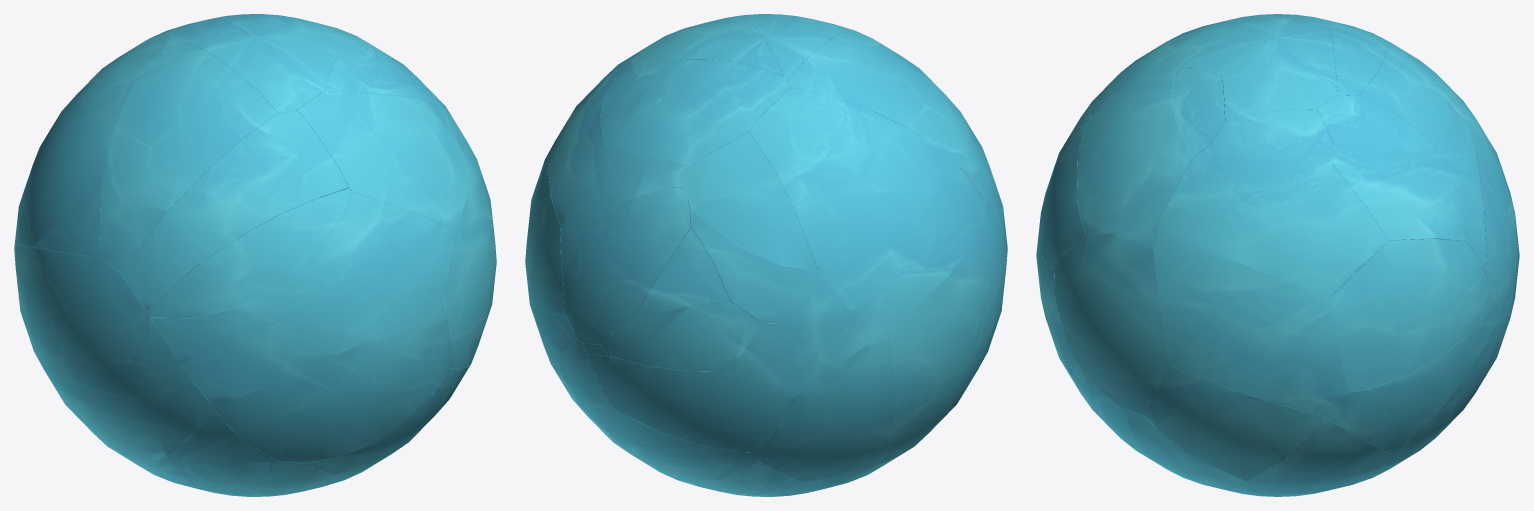
The model's file is ice_ball.fbx.
The picture shows the model from 3 angles, left to right: view 1: azimuth 30°, elevation 25°; view 2: azimuth 150°, elevation 25°; view 3: azimuth 270°, elevation 25°; orthographic projection.
Visible parts, largest first — view 1: Sphere_cell.033, Sphere_cell.014, Sphere_cell.042, Sphere_cell.024, Sphere_cell.032, Sphere_cell.018, Sphere_cell.008, Sphere_cell.010, Sphere_cell.021, Sphere_cell.046, Sphere_cell.023, Sphere_cell.005 (+7 smaller); view 2: Sphere_cell.008, Sphere_cell.014, Sphere_cell.022, Sphere_cell, Sphere_cell.025, Sphere_cell.042, Sphere_cell.020, Sphere_cell.047, Sphere_cell.016, Sphere_cell.037, Sphere_cell.009, Sphere_cell.030 (+14 smaller); view 3: Sphere_cell.017, Sphere_cell.040, Sphere_cell.041, Sphere_cell.021, Sphere_cell.018, Sphere_cell.036, Sphere_cell.003, Sphere_cell.002, Sphere_cell.012, Sphere_cell.013, Sphere_cell.019, Sphere_cell.047 (+15 smaller).
Boxes of the visible parts, x1,y1,x2,y2 form: Sphere_cell.033: [151, 191, 457, 405]; Sphere_cell.014: [15, 244, 214, 455]; Sphere_cell.042: [100, 41, 278, 273]; Sphere_cell.024: [213, 301, 451, 463]; Sphere_cell.032: [122, 110, 348, 310]; Sphere_cell.018: [297, 91, 468, 228]; Sphere_cell.008: [16, 38, 168, 257]; Sphere_cell.010: [147, 188, 352, 317]; Sphere_cell.021: [440, 168, 496, 369]; Sphere_cell.046: [181, 34, 335, 113]; Sphere_cell.023: [172, 410, 270, 496]; Sphere_cell.005: [306, 366, 469, 474]; Sphere_cell.008: [749, 88, 988, 330]; Sphere_cell.014: [882, 204, 1007, 462]; Sphere_cell.022: [757, 331, 894, 483]; Sphere_cell: [587, 354, 800, 452]; Sphere_cell.025: [563, 187, 690, 344]; Sphere_cell.042: [788, 32, 995, 207]; Sphere_cell.020: [684, 131, 816, 270]; Sphere_cell.047: [612, 76, 756, 165]; Sphere_cell.016: [601, 302, 761, 371]; Sphere_cell.037: [688, 199, 853, 323]; Sphere_cell.009: [581, 314, 885, 389]; Sphere_cell.030: [560, 157, 691, 276]; Sphere_cell.017: [1152, 227, 1348, 416]; Sphere_cell.040: [1157, 145, 1387, 298]; Sphere_cell.041: [1328, 238, 1492, 391]; Sphere_cell.021: [1054, 231, 1169, 416]; Sphere_cell.018: [1077, 57, 1193, 236]; Sphere_cell.036: [1145, 365, 1324, 481]; Sphere_cell.003: [1328, 144, 1465, 241]; Sphere_cell.002: [1325, 305, 1499, 454]; Sphere_cell.012: [1221, 26, 1337, 122]; Sphere_cell.013: [1245, 417, 1391, 487]; Sphere_cell.019: [1210, 109, 1332, 161]; Sphere_cell.047: [1359, 45, 1450, 150].
Bounding box in the file's own units: 574 × 574 × 574.
1 material, 1 textured.
